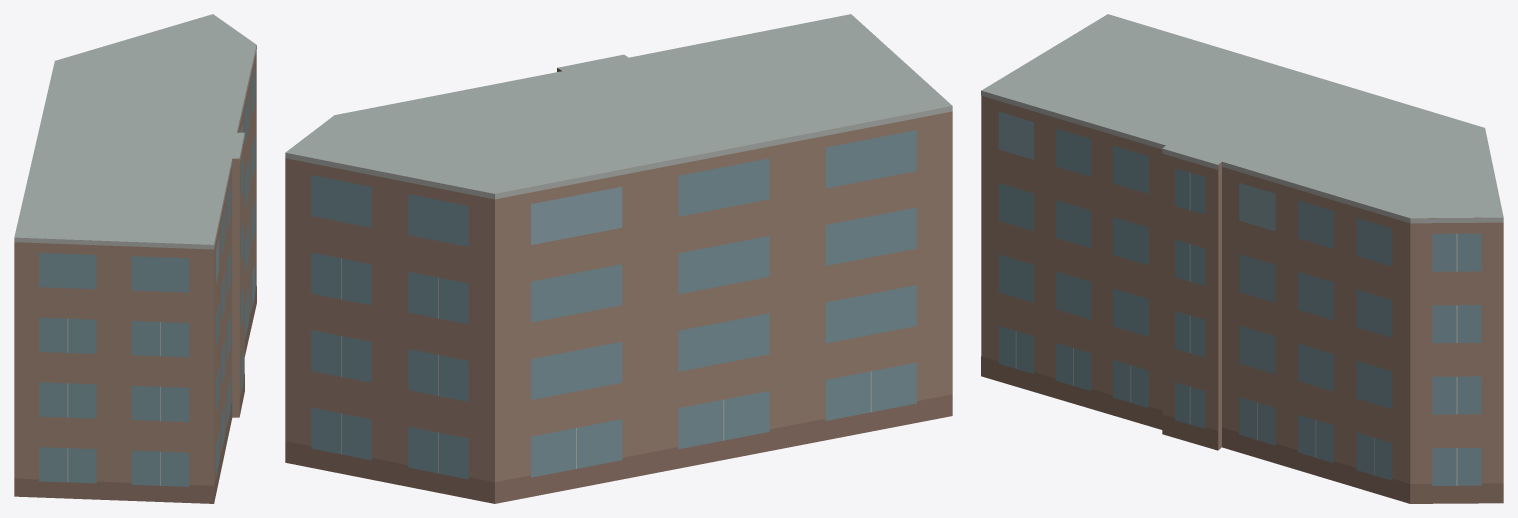
File: survey-upis-32688833.glb
3 views of the same model, side by side, from view 1: azimuth 30°, elevation 25°; view 2: azimuth 150°, elevation 25°; view 3: azimuth 270°, elevation 25° (orthographic). The views are drawn at different scales.
Parts seen in each view (by area): view 1: survey-upis-32688833.tmp; view 2: survey-upis-32688833.tmp; view 3: survey-upis-32688833.tmp.
Boxes of the visible parts, <box> form: survey-upis-32688833.tmp: <box>14,14,256,503</box>; survey-upis-32688833.tmp: <box>285,14,952,503</box>; survey-upis-32688833.tmp: <box>981,14,1503,503</box>.
Size of the model in its own units: 21.17 by 13.8 by 22.89.
